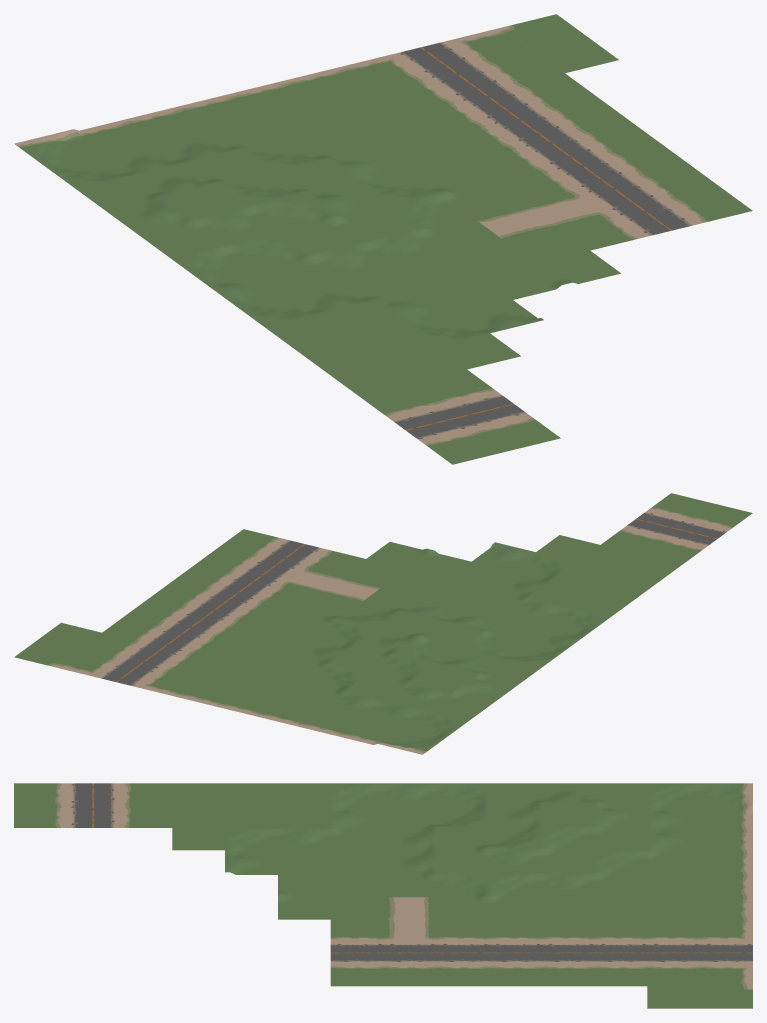
Rendered from Camp_Quarter.fbx.
3 views of the same model, one above another, from view 1: azimuth 30°, elevation 25°; view 2: azimuth 150°, elevation 25°; view 3: azimuth 270°, elevation 25° (orthographic). The views are drawn at different scales.
Visible parts, largest first — view 1: pPlane732; view 2: pPlane732; view 3: pPlane732.
Part boxes in pixels (x1=…): pPlane732: x1=14, y1=14, x2=752, y2=464; pPlane732: x1=14, y1=493, x2=752, y2=754; pPlane732: x1=14, y1=783, x2=752, y2=1008.
Size of the model in its own units: 100 by 1 by 140.
